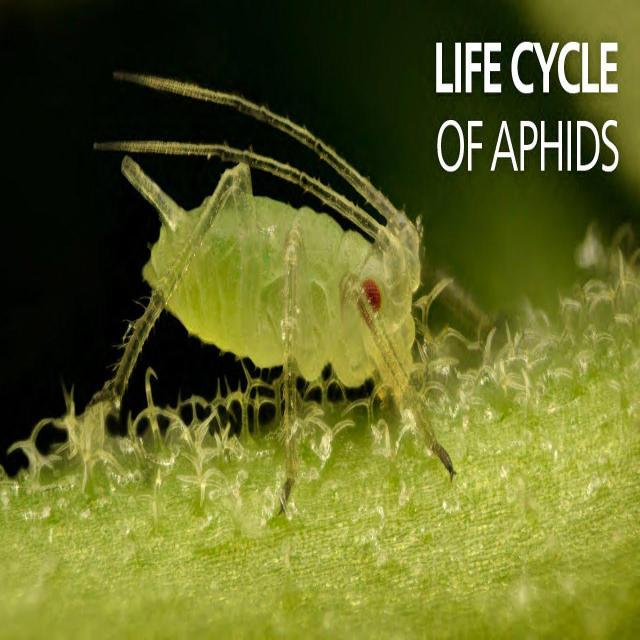Aphids: (82, 49, 482, 535)
